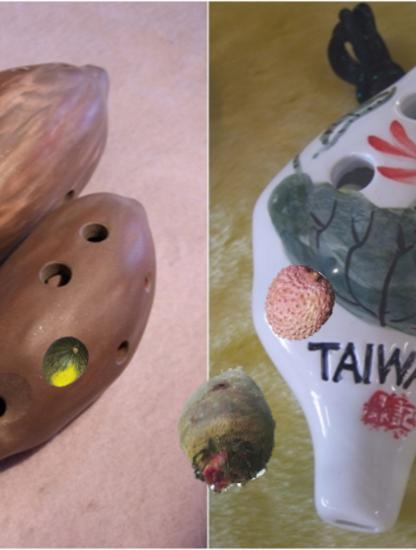Beetroot: (161, 363, 294, 496)
Lychee: (259, 265, 337, 343)
Melon: (40, 336, 92, 388)
